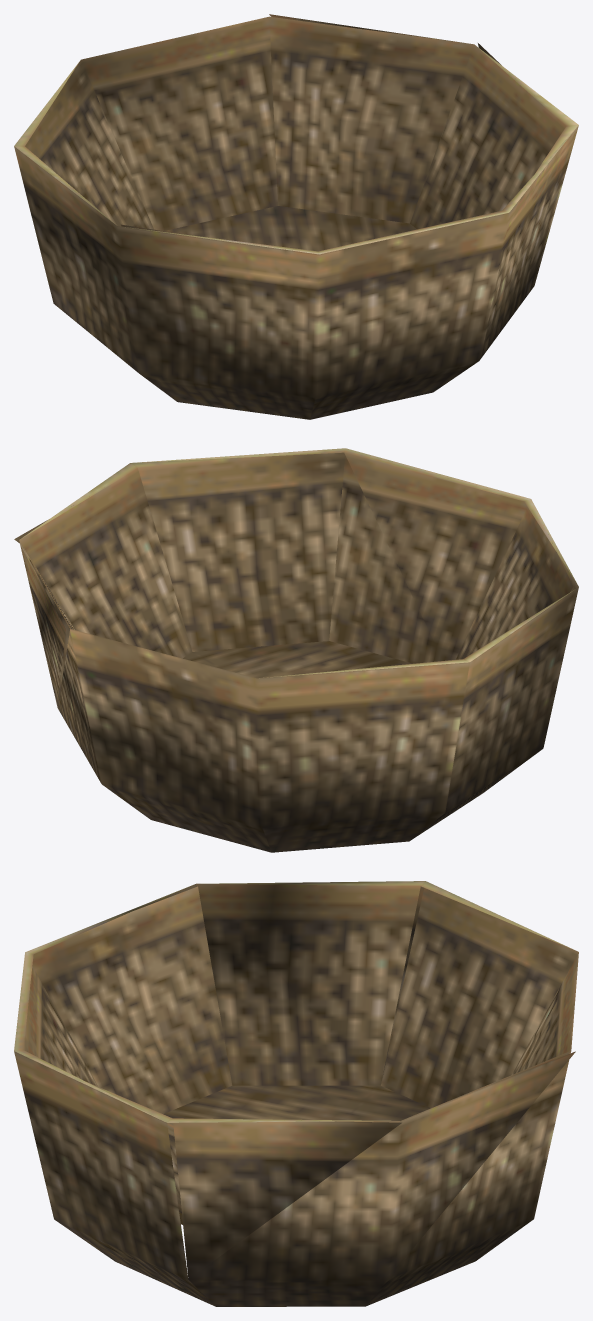
File: xsz_lanzi_2.FBX
3 views of the same model, one above another, from view 1: azimuth 30°, elevation 25°; view 2: azimuth 150°, elevation 25°; view 3: azimuth 270°, elevation 25° (orthographic). The views are drawn at different scales.
Parts seen in each view (by area): view 1: xsz_lanzi_2; view 2: xsz_lanzi_2; view 3: xsz_lanzi_2.
Boxes of the visible parts, <box> form: xsz_lanzi_2: <box>14,14,578,419</box>; xsz_lanzi_2: <box>14,448,578,852</box>; xsz_lanzi_2: <box>14,881,578,1306</box>.
Size of the model in its own units: 1.19 by 0.5357 by 1.17.
